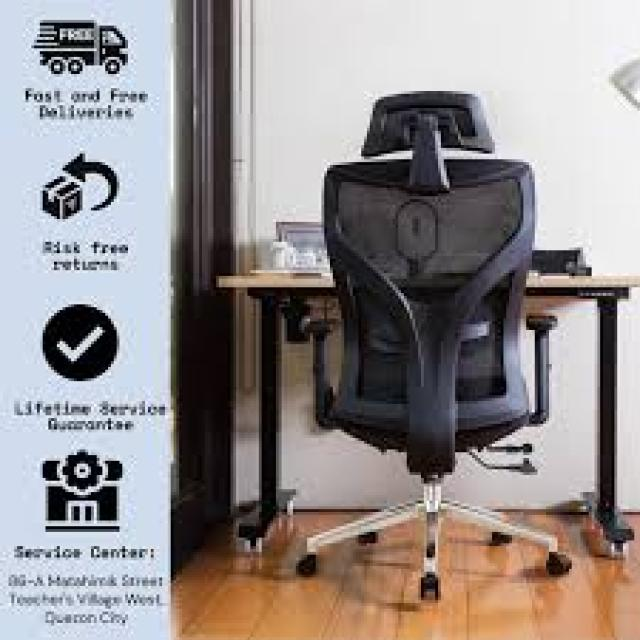chair: (251, 75, 632, 620)
